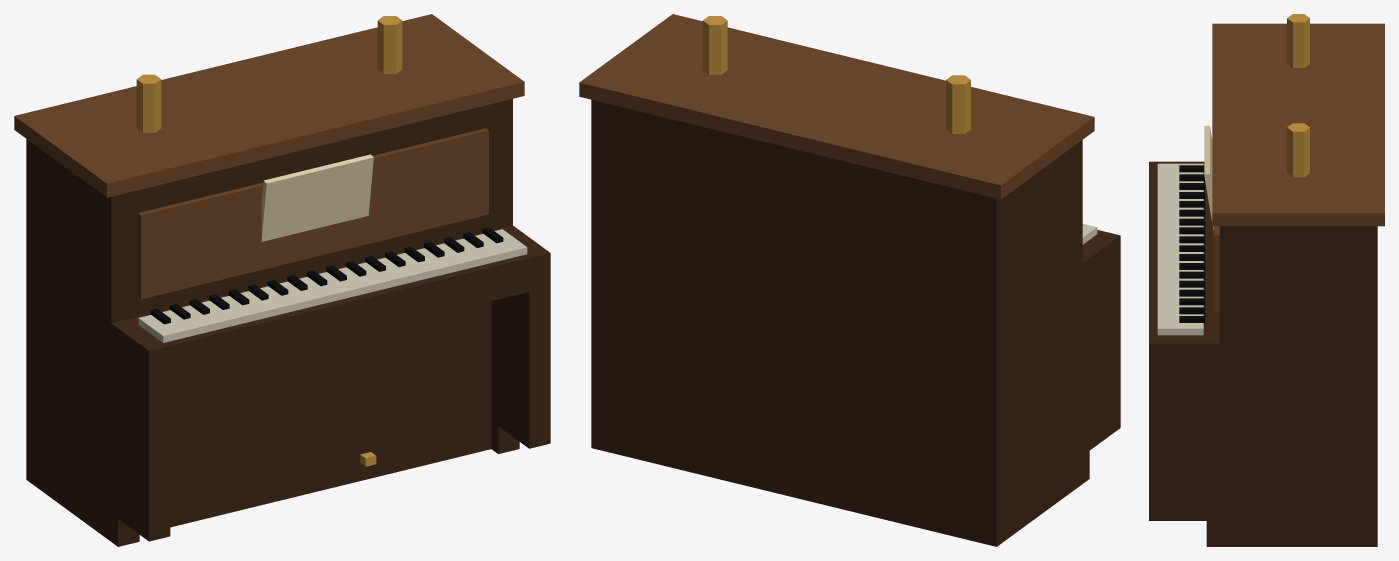
The model's file is SM_Piano.obj.
The picture shows the model from 3 angles, left to right: view 1: azimuth 30°, elevation 25°; view 2: azimuth 150°, elevation 25°; view 3: azimuth 270°, elevation 25°; orthographic projection. The views are drawn at different scales.
Parts seen in each view (by area): view 1: SM_Piano; view 2: SM_Piano; view 3: SM_Piano.
Boxes of the visible parts, x1,y1,x2,y2 form: SM_Piano: (14,14,550,546); SM_Piano: (579,14,1120,546); SM_Piano: (1149,14,1384,546).
Size of the model in its own units: 1.56 by 1.47 by 0.82.
